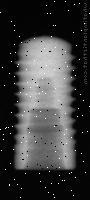Straumann ITI: (14, 34, 76, 170)
